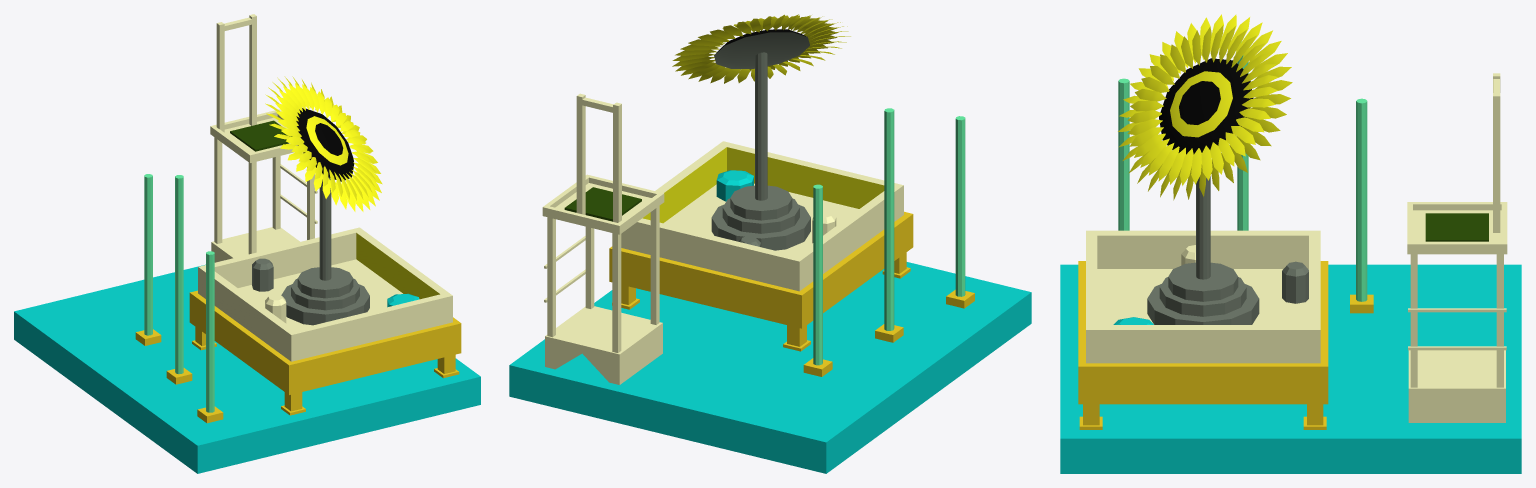
File: lab.fbx
The picture shows the model from 3 angles, left to right: view 1: azimuth 30°, elevation 25°; view 2: azimuth 150°, elevation 25°; view 3: azimuth 270°, elevation 25°; orthographic projection. The views are drawn at different scales.
Parts seen in each view (by area): view 1: Lab; view 2: Lab; view 3: Lab.
Part boxes in pixels (left/top/right/bottom): Lab: left=14, top=14, right=480, bottom=473; Lab: left=509, top=14, right=1031, bottom=473; Lab: left=1060, top=14, right=1521, bottom=473.
Size of the model in its own units: 113 by 113 by 127.
